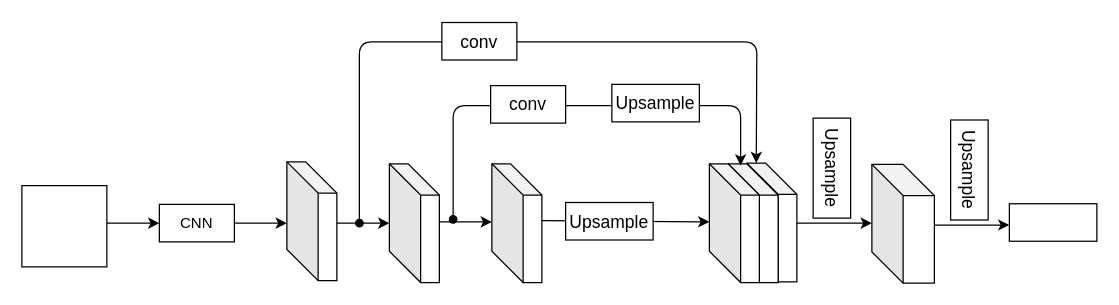
Image size: 1119x305. Some labels were removed from this diagram. The centre of each missing label's shape, as x and y in pixels:
"Energy" goes at (1052,221).
"RGB" goes at (64,225).
